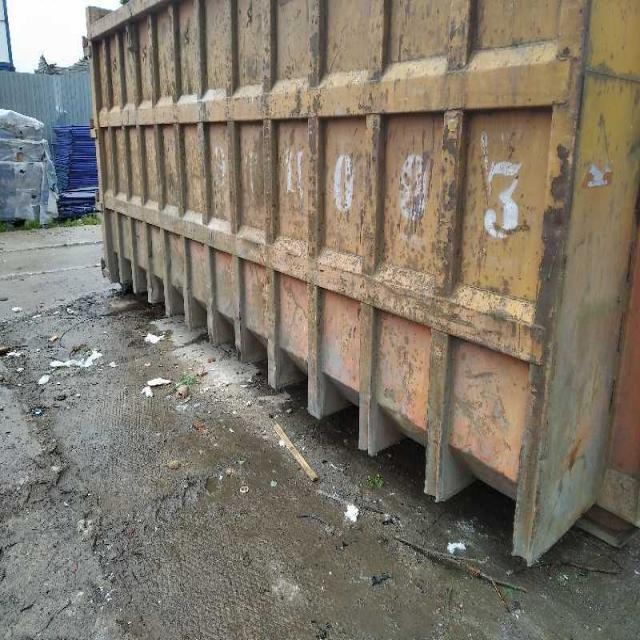Dumpster: (85, 2, 639, 560)
